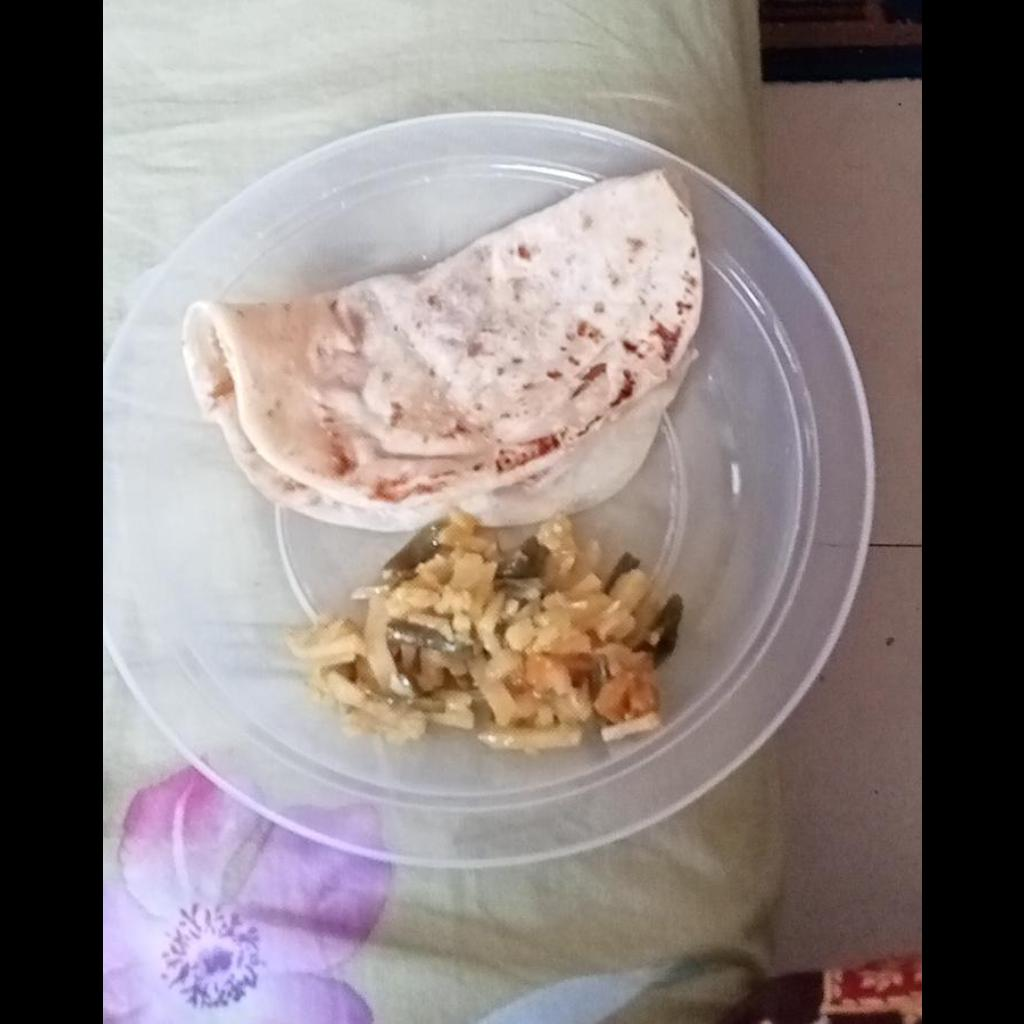ruti: (176, 171, 705, 530)
vaji: (281, 523, 683, 754)
